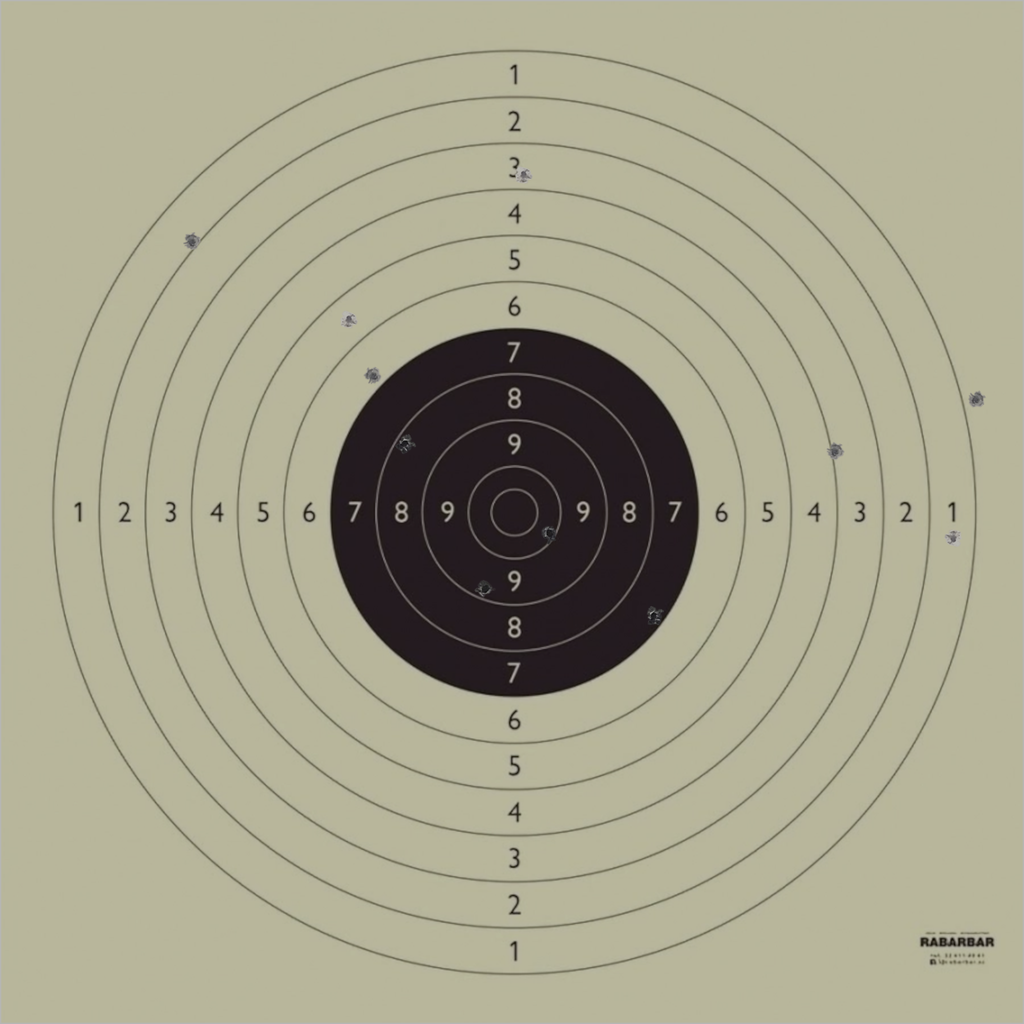0 punktow: (967, 391, 985, 409)
1 punkt: (944, 529, 962, 548)
10 punktow: (540, 524, 559, 543)
2 punkty: (183, 233, 201, 251)
3 punkty: (515, 166, 533, 184)
4 punkty: (826, 443, 844, 461)
5 punktow: (340, 310, 358, 329)
6 punktow: (364, 367, 383, 385)
7 punktow: (645, 607, 663, 626)
8 punktow: (395, 435, 414, 453)
9 punktow: (476, 580, 494, 598)
